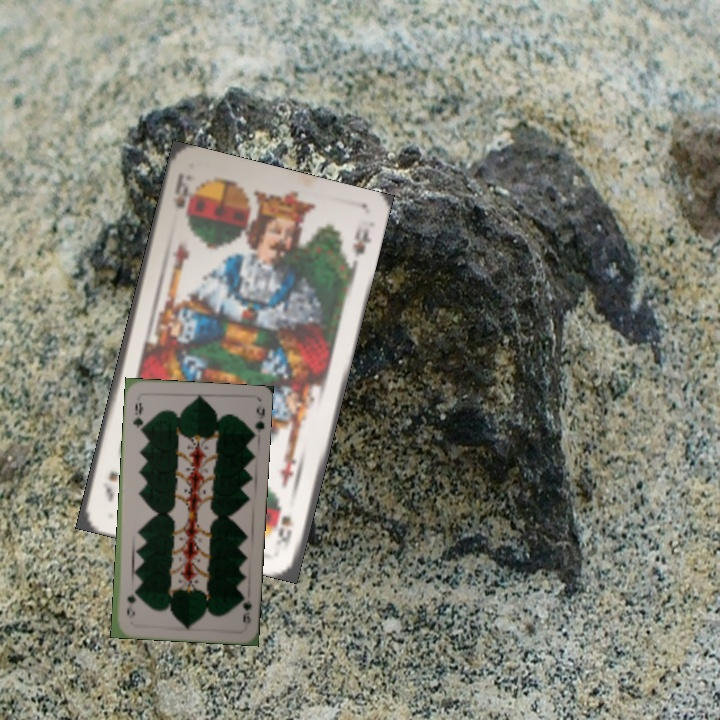G9: (236, 588, 254, 626), (129, 398, 146, 434)
SK: (168, 168, 195, 219), (273, 511, 297, 554)
